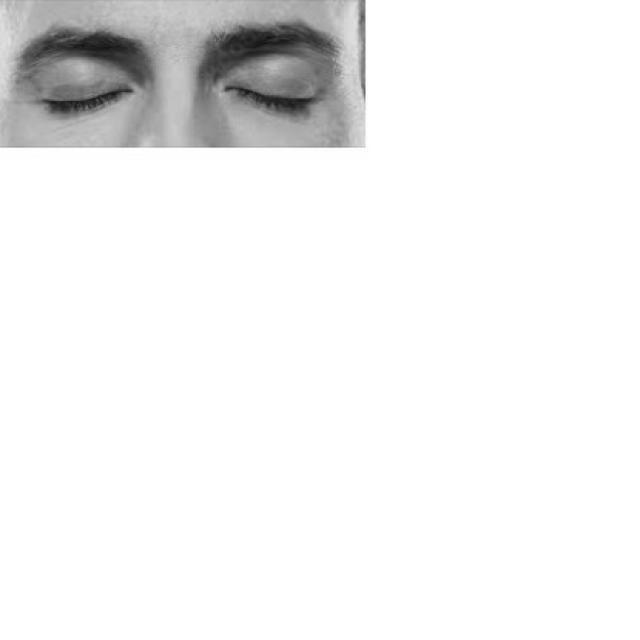real: (24, 32, 336, 128)
